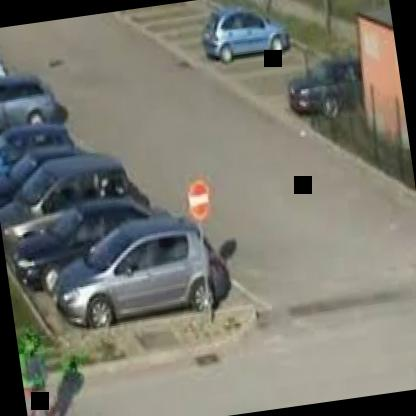car: (37, 199, 270, 366), (0, 142, 170, 260), (18, 194, 190, 290), (187, 0, 304, 78), (271, 38, 372, 124), (0, 63, 74, 146)
